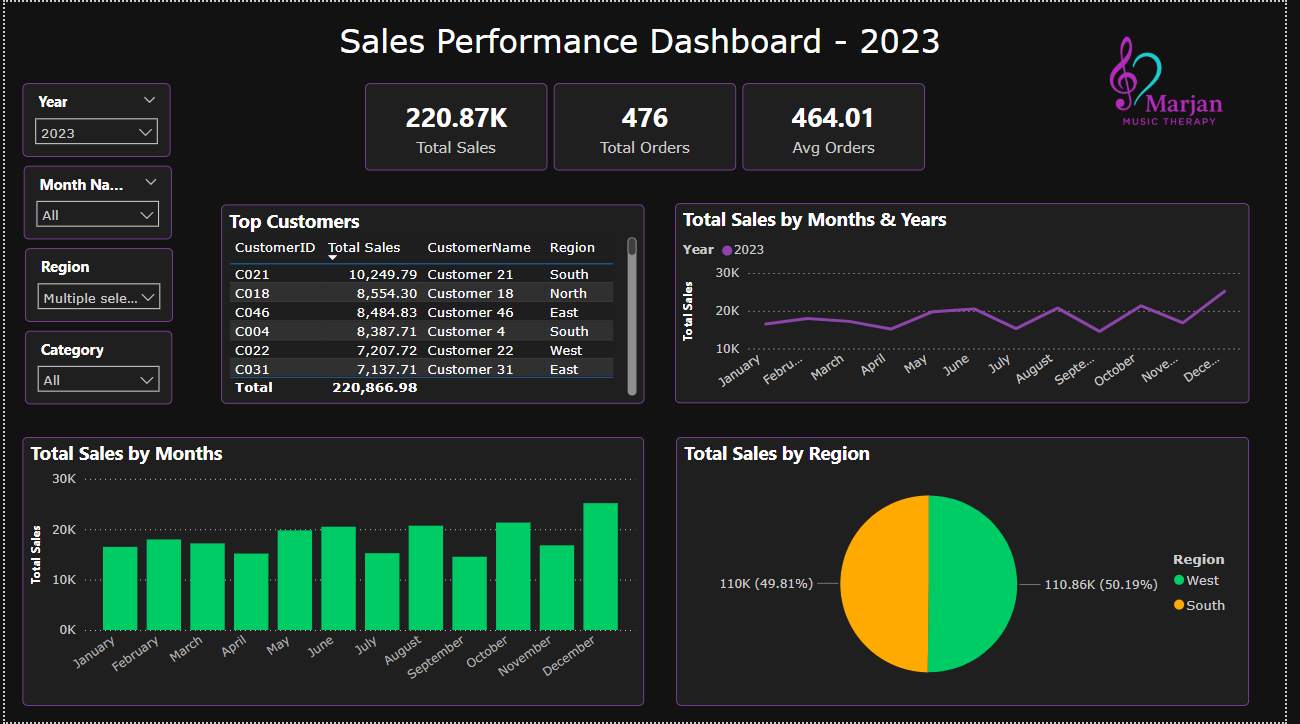

The dashboard page shown, as its layout file describes it:
{"tool":"powerbi","page":{"name":"Page 1","canvas":[1280,720],"ordinal":0},"visuals":[{"type":"card","fields":{"Values":["Sales.Total Sales"]},"box":[360,81,182,87],"z":0},{"type":"card","fields":{"Values":["Sales.Total Orders"]},"box":[548.9,80.8,182.2,86.9],"z":1000},{"type":"card","fields":{"Values":["Sales.Avg Orders"]},"box":[738,81,182,87],"z":2000},{"type":"clusteredColumnChart","title":"Total Sales by Months","fields":{"Category":["Calendar.MonthName"],"Y":["Sales.Total Sales"]},"box":[18.1,435.5,621.3,269],"z":3000},{"type":"pieChart","fields":{"Category":["Sales.Region"],"Y":["Sales.Total Sales"]},"box":[670.8,435.5,573.1,269],"z":4000},{"type":"tableEx","title":"Top Customers","fields":{"Values":["Sales.CustomerID","Sales.Total Sales","Customers.CustomerName","Customers.Region"]},"box":[216,202.7,423.5,199.1],"z":5000},{"type":"slicer","fields":{"Values":["Regions.Region"]},"box":[19.7,245.7,148.4,73.6],"z":6000},{"type":"slicer","fields":{"Values":["Products.Category"]},"box":[20.5,328.2,147.2,73.6],"z":7000},{"type":"slicer","fields":{"Values":["Calendar.Year"]},"box":[18.1,80.8,148.4,73.6],"z":8000},{"type":"slicer","fields":{"Values":["Calendar.MonthName"]},"box":[18.9,163.3,148.4,73.6],"z":9000},{"type":"lineChart","title":"Total Sales by Months & Years","fields":{"Category":["Calendar.MonthName"],"Y":["Sales.Total Sales"],"Series":["Calendar.Year"]},"box":[669.6,201.5,574.3,200.3],"z":10000},{"type":"textbox","box":[254.5,14,771,67],"z":11000},{"type":"image","box":[1076.2,1.2,167.5,162.5],"z":12000}]}

Visuals, with their boxes in screenshot pixels (x1, y1, x2, y2), scaled from the page's 1280x720 canvas onto the 1300x724 screenshot:
card - Sales.Total Sales: bbox=[366, 81, 550, 169]
card - Sales.Total Orders: bbox=[557, 81, 743, 169]
card - Sales.Avg Orders: bbox=[750, 81, 934, 169]
"Total Sales by Months" clusteredColumnChart: bbox=[18, 438, 649, 708]
pieChart - Sales.Region x Sales.Total Sales: bbox=[681, 438, 1263, 708]
"Top Customers" tableEx: bbox=[219, 204, 649, 404]
slicer - Regions.Region: bbox=[20, 247, 171, 321]
slicer - Products.Category: bbox=[21, 330, 170, 404]
slicer - Calendar.Year: bbox=[18, 81, 169, 155]
slicer - Calendar.MonthName: bbox=[19, 164, 170, 238]
"Total Sales by Months & Years" lineChart: bbox=[680, 203, 1263, 404]
textbox: bbox=[258, 14, 1042, 81]
image: bbox=[1093, 1, 1263, 165]
